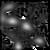node: (6, 15, 20, 27), (32, 36, 46, 47), (20, 22, 34, 33), (13, 41, 26, 50)
